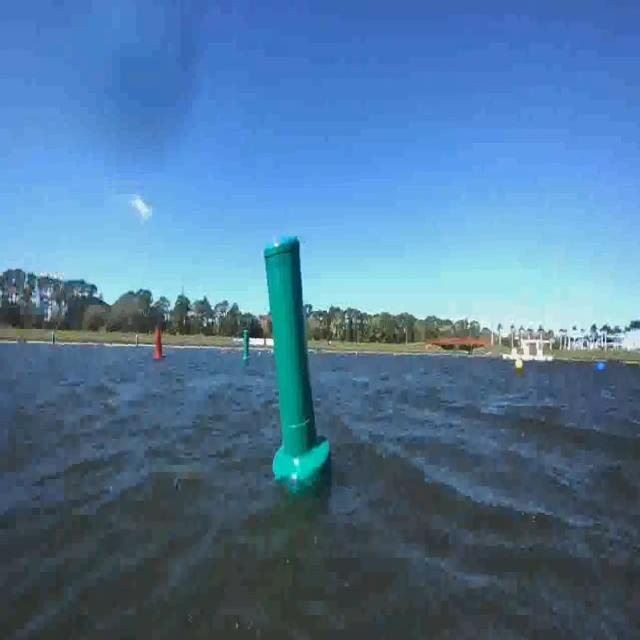blue-buoy: (590, 358, 609, 386)
green-column-buoy: (265, 235, 330, 482), (239, 332, 249, 364)
red-column-buoy: (153, 328, 164, 360)
yellow-buoy: (516, 358, 524, 372)
